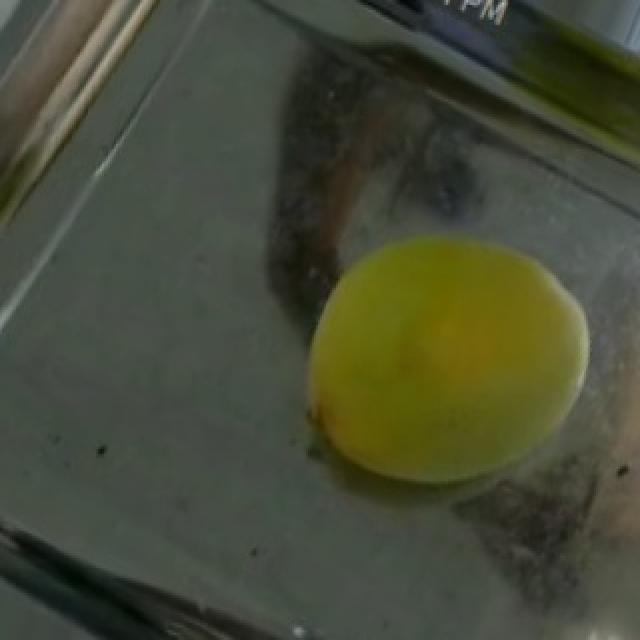fruit: (254, 156, 640, 544)
